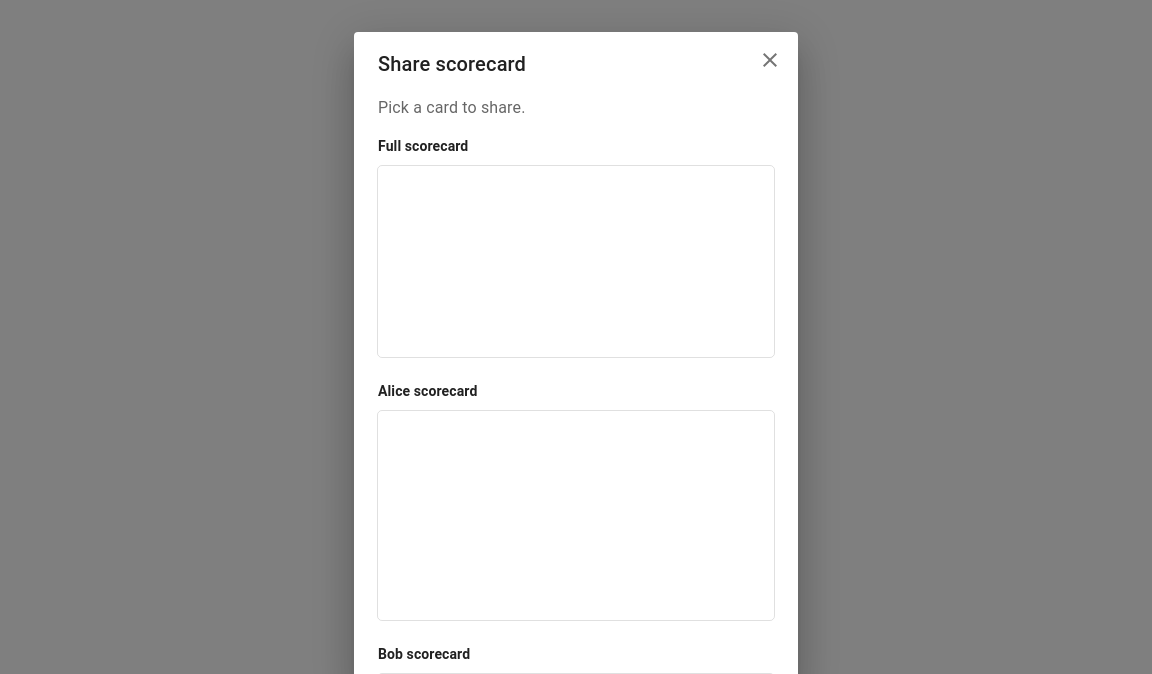
Scenario: ShareRoundDialog › shows an error message when sharing fails for another reason
Step 1. Click the button named "full scorecard preview" below "Full scorecard" → click(576, 261), box [378,166,774,357]
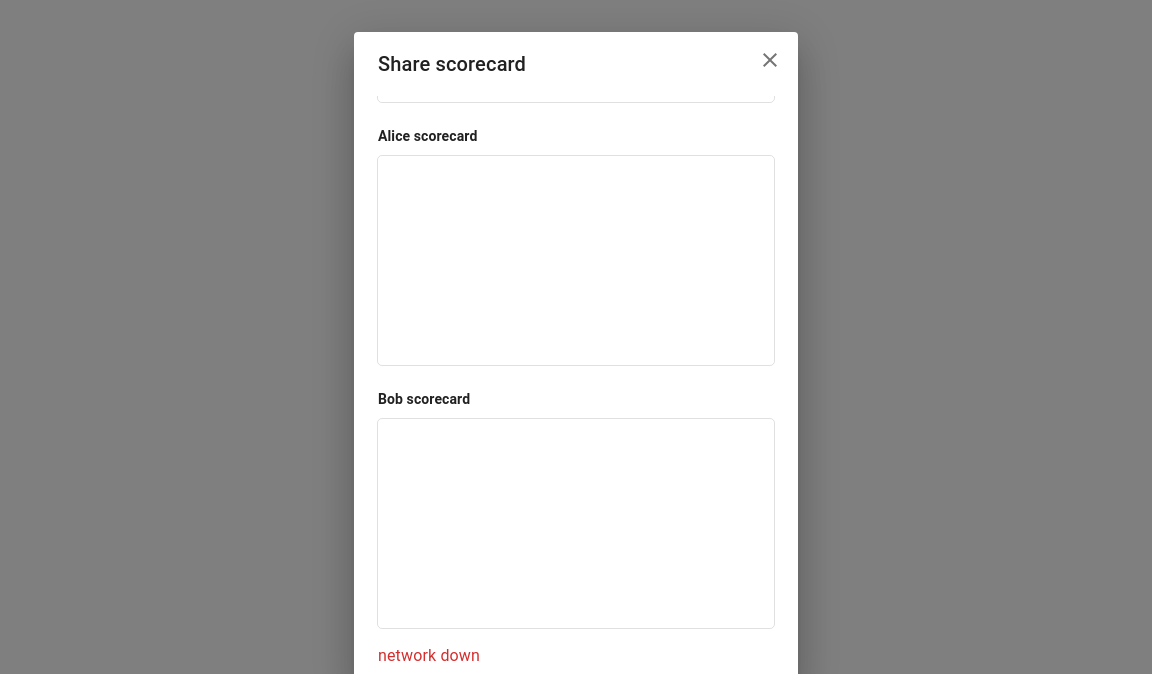
expect the text "network down" is shown: met, box [378,646,480,665]
